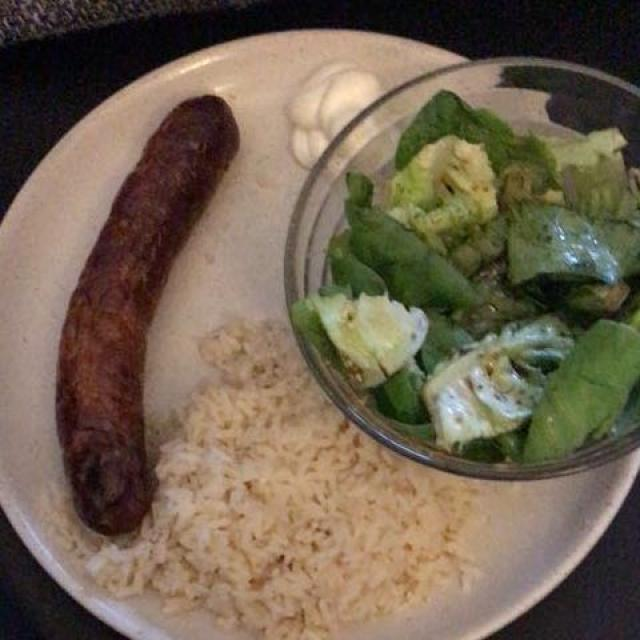mayonnaise: (274, 56, 384, 176)
rice: (137, 330, 474, 621)
salad: (310, 95, 633, 457)
sausage: (59, 103, 239, 534)
